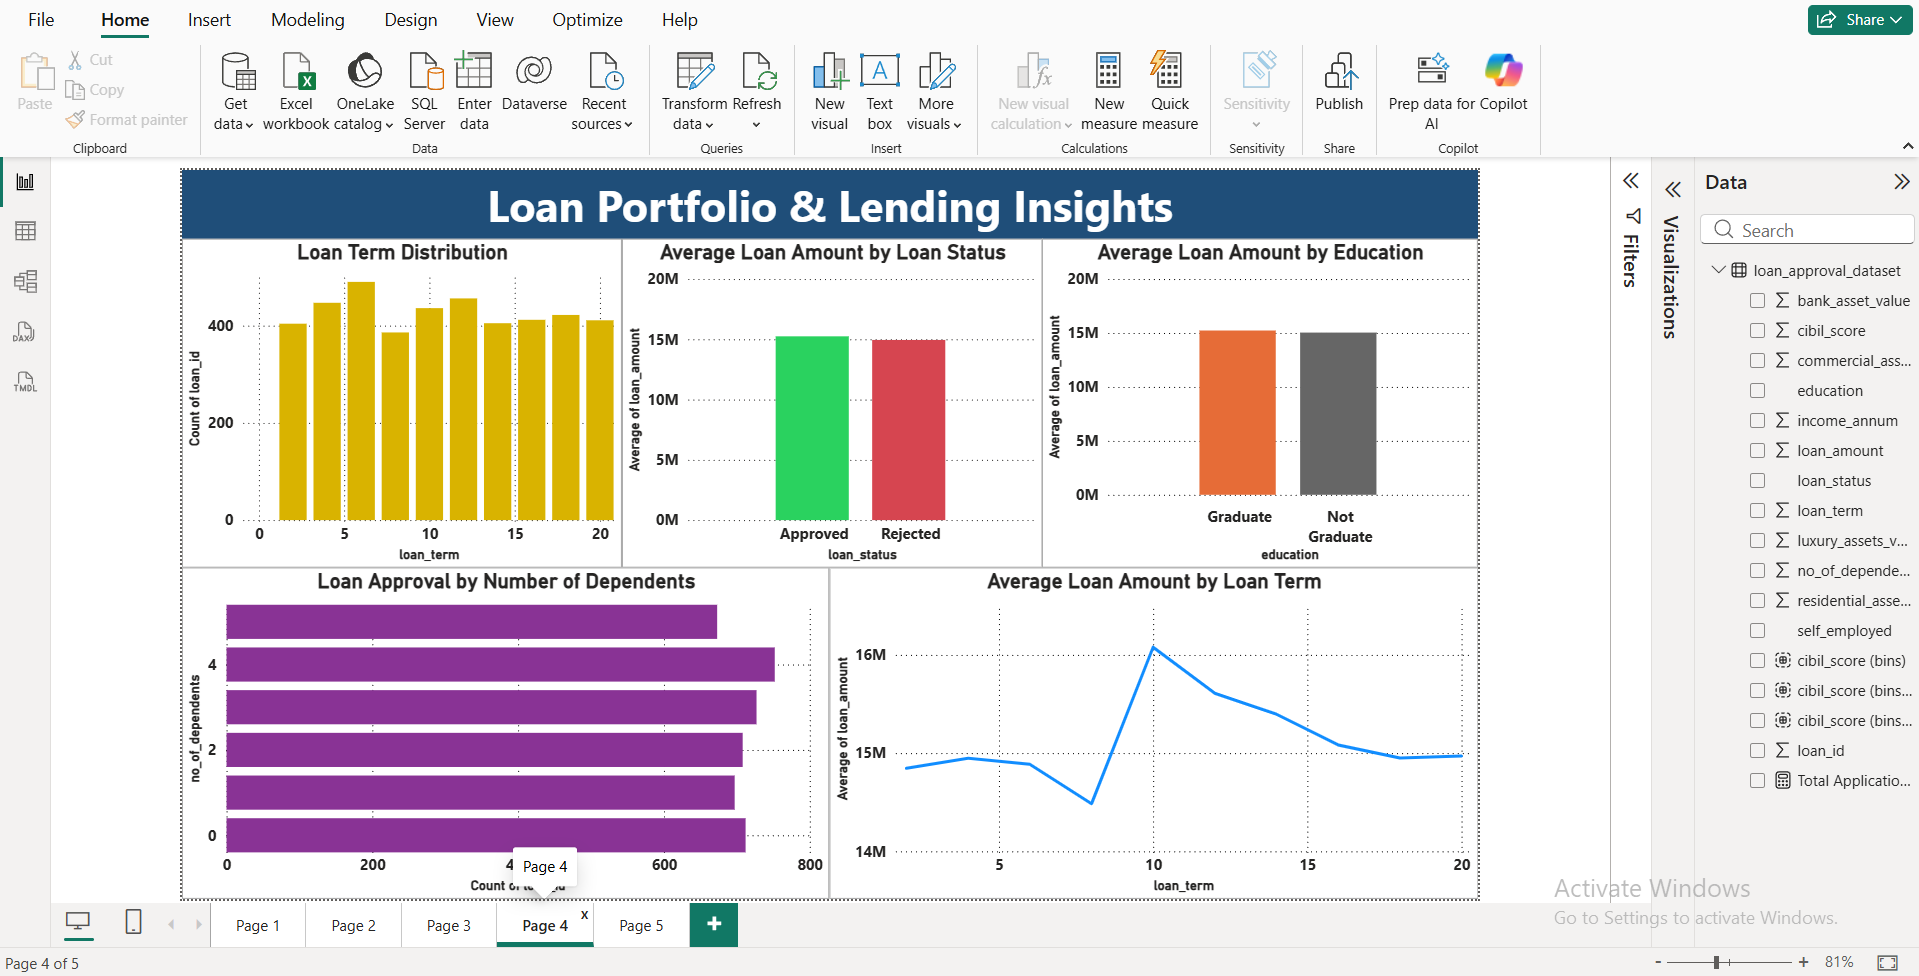

The page's visual inventory and layout, read from the dashboard file:
{"tool":"powerbi","page":{"name":"Page 4","canvas":[1280,720],"ordinal":3},"visuals":[{"type":"textbox","box":[0,0,1280.3,68.6],"z":0},{"type":"clusteredColumnChart","title":"Loan Term Distribution","fields":{"Category":["loan_approval_dataset. loan_term"],"Y":["CountNonNull(loan_approval_dataset.loan_id)"]},"box":[0,68.4,434.1,324.7],"z":1000},{"type":"clusteredColumnChart","title":"Average Loan Amount by Loan Status","fields":{"Category":["loan_approval_dataset. loan_status"],"Y":["Avg(loan_approval_dataset. loan_amount)"]},"box":[434.1,68.4,415.5,324.7],"z":2000},{"type":"clusteredBarChart","title":"Loan Approval by Number of Dependents","fields":{"Category":["loan_approval_dataset. no_of_dependents"],"Y":["CountNonNull(loan_approval_dataset.loan_id)"]},"box":[0,393.1,639.4,327.2],"z":3000},{"type":"lineChart","title":"Average Loan Amount by Loan Term","fields":{"Category":["loan_approval_dataset. loan_term"],"Y":["Avg(loan_approval_dataset. loan_amount)"]},"box":[639.4,393.1,640.6,327.2],"z":4000},{"type":"clusteredColumnChart","title":"Average Loan Amount by Education","fields":{"Category":["loan_approval_dataset. education"],"Y":["Avg(loan_approval_dataset. loan_amount)"]},"box":[849.6,68.4,430.4,324.7],"z":5000}]}

Visuals, with their boxes on the page's 1280x720 design canvas (x1, y1, x2, y2). These are canvas units, not pixel positions in the 1919x976 screenshot, which may show the page scaled, cropped or inside an application window:
textbox: [0, 0, 1280, 69]
"Loan Term Distribution" clusteredColumnChart: [0, 68, 434, 393]
"Average Loan Amount by Loan Status" clusteredColumnChart: [434, 68, 850, 393]
"Loan Approval by Number of Dependents" clusteredBarChart: [0, 393, 639, 720]
"Average Loan Amount by Loan Term" lineChart: [639, 393, 1280, 720]
"Average Loan Amount by Education" clusteredColumnChart: [850, 68, 1280, 393]
